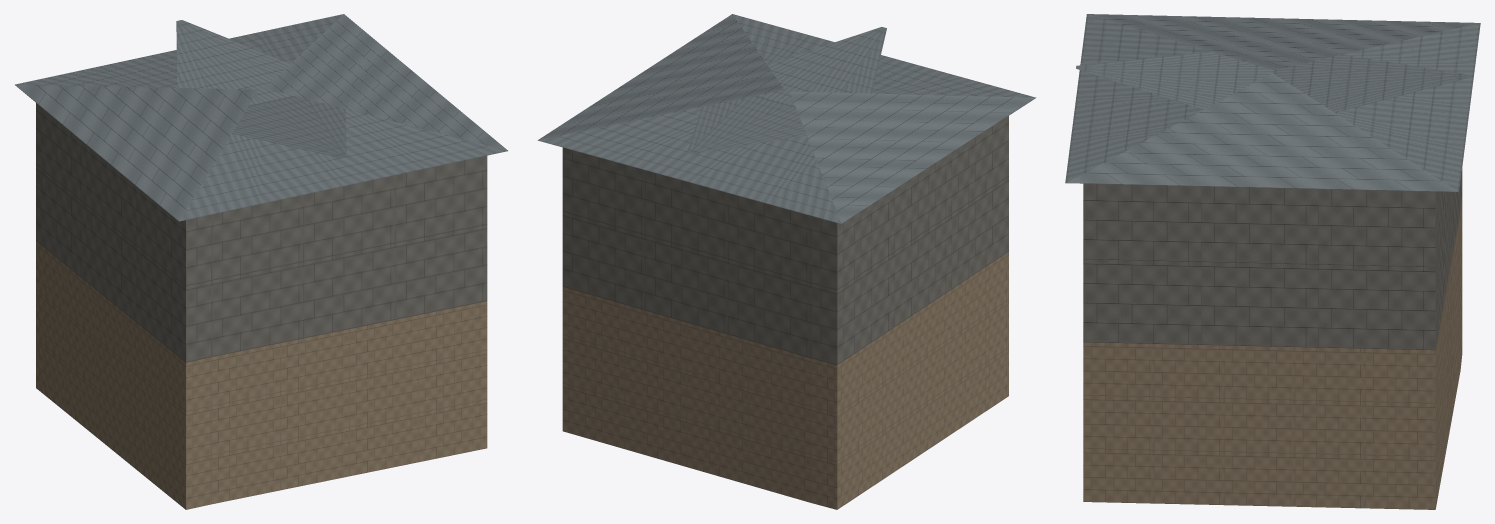
File: bld_c32_45_249.gltf
3 views of the same model, side by side, from view 1: azimuth 30°, elevation 25°; view 2: azimuth 150°, elevation 25°; view 3: azimuth 270°, elevation 25° (orthographic). The views are drawn at different scales.
Parts seen in each view (by area): view 1: bld_c32_45_249; view 2: bld_c32_45_249; view 3: bld_c32_45_249.
Boxes of the visible parts, box(x1,y1,x2,y2) form: bld_c32_45_249: box(15, 14, 507, 509); bld_c32_45_249: box(537, 14, 1036, 509); bld_c32_45_249: box(1065, 14, 1480, 509).
Bounding box in the file's own units: 12.2 × 11.4 × 12.02.
3 materials, 3 textured.
